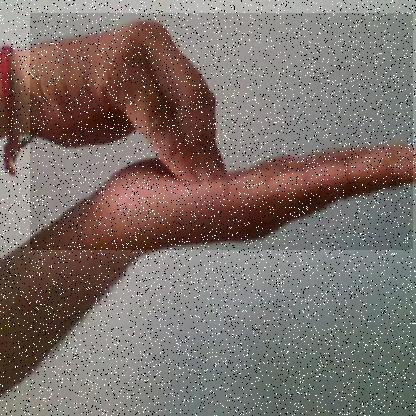Z: (30, 13, 414, 251)
